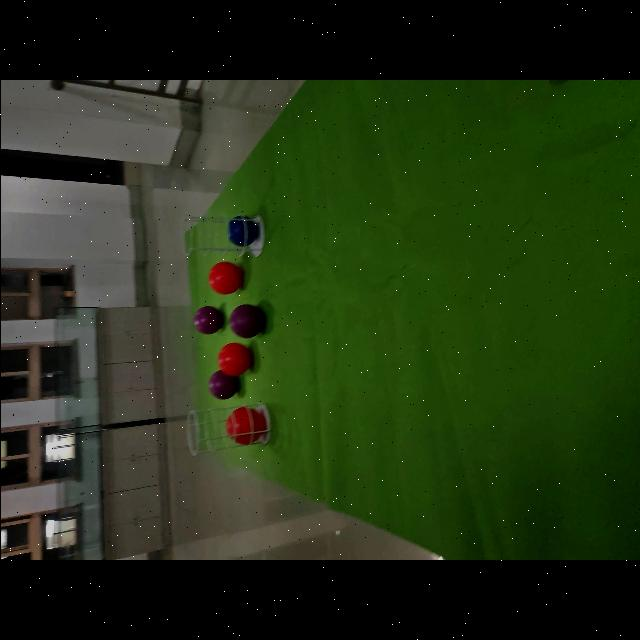B: (227, 217, 259, 248)
P: (229, 305, 264, 339), (192, 306, 223, 335), (208, 371, 237, 400)
R: (225, 407, 265, 444), (216, 343, 252, 376), (207, 262, 241, 294)
S: (186, 403, 270, 455), (182, 216, 263, 257)
